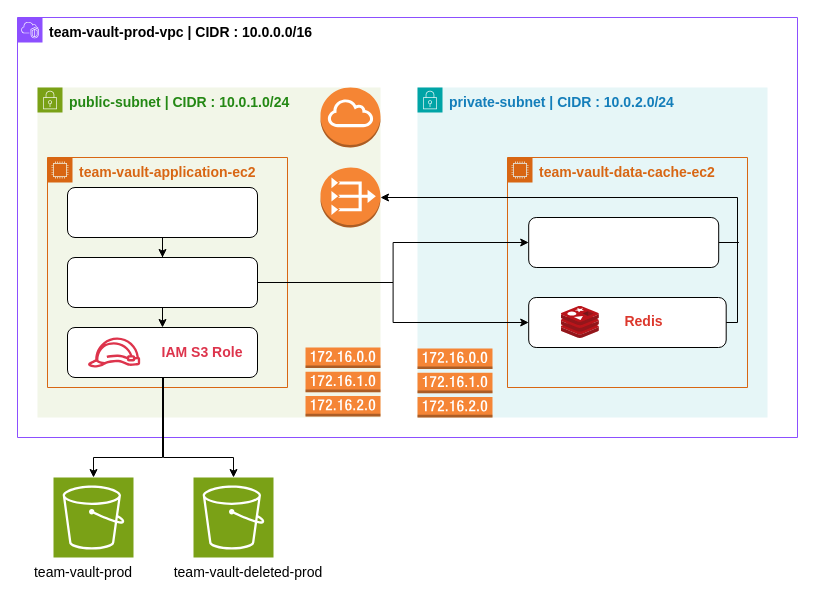
Some shapes in this 815 by 605 pixel diagram are drawn without their labels. The centre of each missing label's shape, as x and y in pixels:
Mongo DB: (x=623, y=242)
nginx: (x=162, y=212)
Spring REST API: (x=162, y=282)
